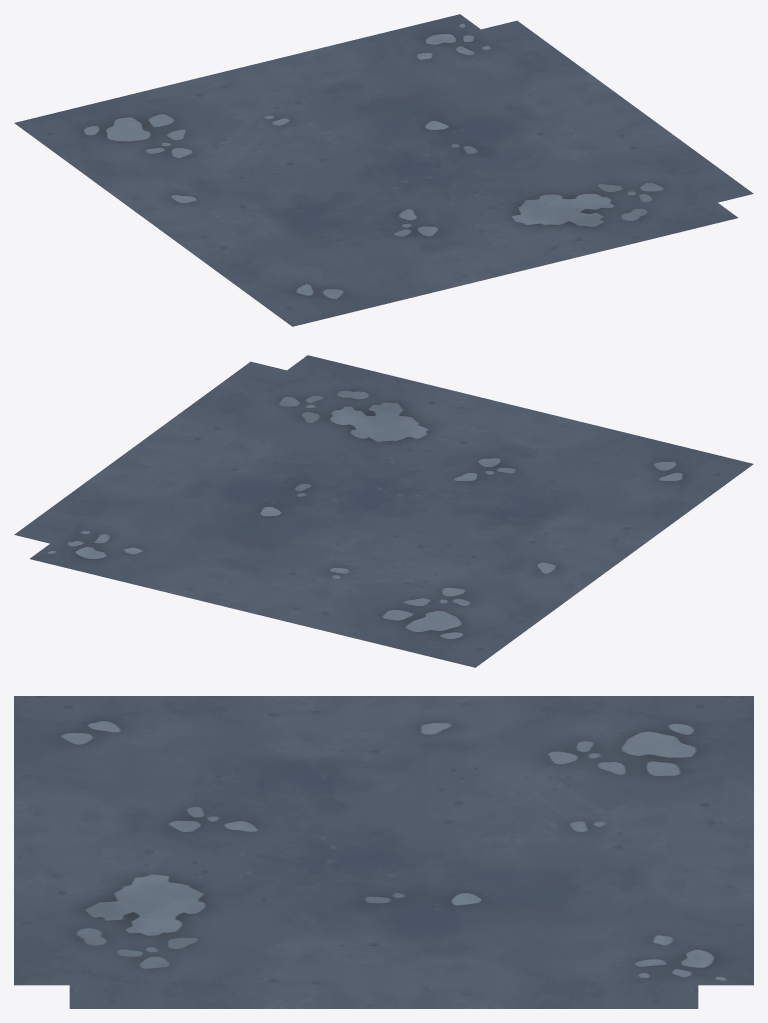
The model's file is dungeon_ground_corridorentry.FBX.
The picture shows the model from 3 angles, top to bottom: view 1: azimuth 30°, elevation 25°; view 2: azimuth 150°, elevation 25°; view 3: azimuth 270°, elevation 25°; orthographic projection. The views are drawn at different scales.
Visible parts, largest first — view 1: corridorentry; view 2: corridorentry; view 3: corridorentry.
Boxes of the visible parts, x1,y1,x2,y2 form: corridorentry: (14,14,753,326); corridorentry: (14,355,753,667); corridorentry: (14,696,753,1008).
Bounding box in the file's own units: 1000 × 6.12e-14 × 1000.
1 material, 1 textured.
